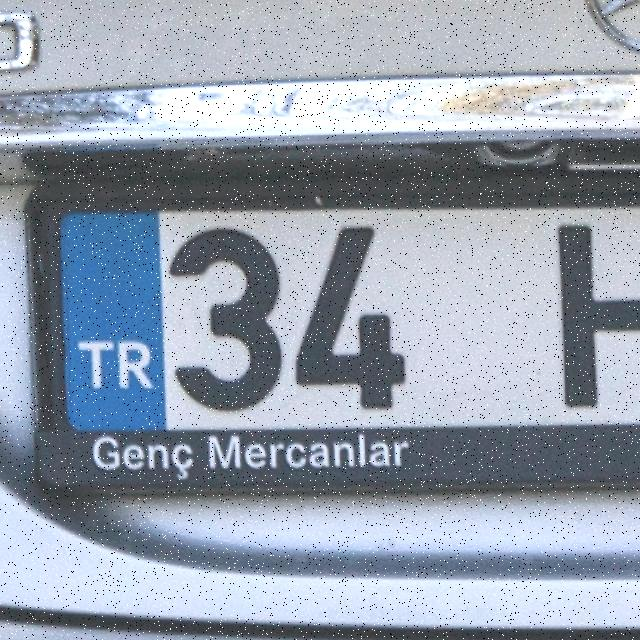licenseplate: (0, 174, 552, 442)
